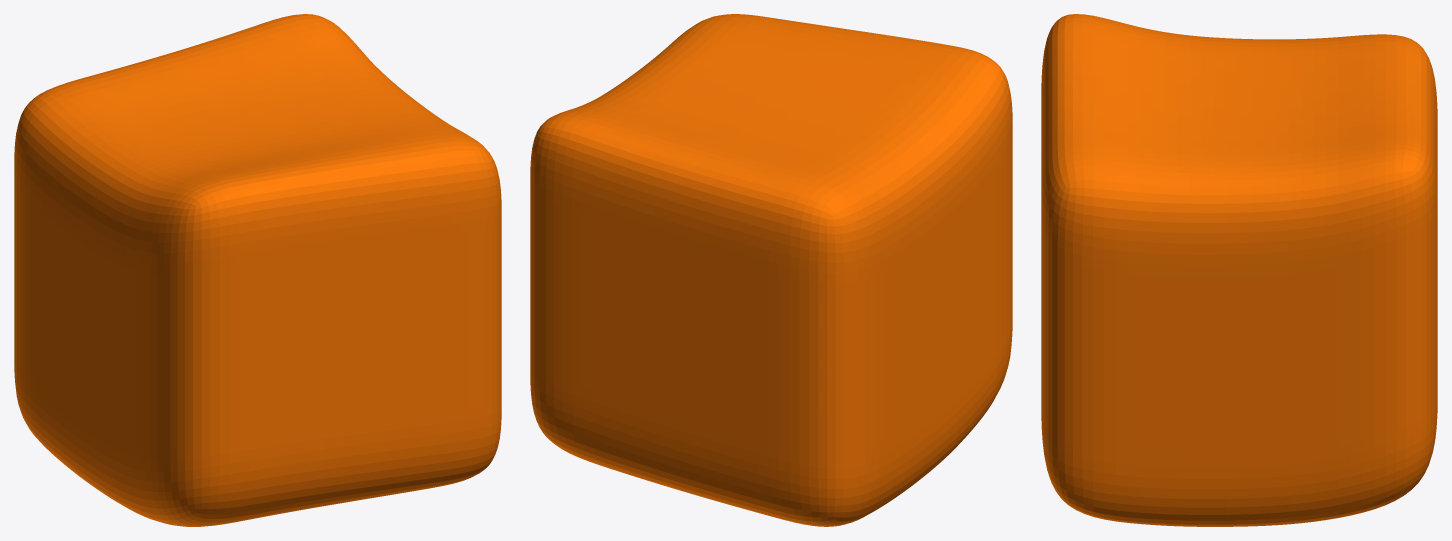
The picture shows the model from 3 angles, left to right: view 1: azimuth 30°, elevation 25°; view 2: azimuth 150°, elevation 25°; view 3: azimuth 270°, elevation 25°; orthographic projection. The views are drawn at different scales.
Parts seen in each view (by area): view 1: smooth_1_base.040; view 2: smooth_1_base.040; view 3: smooth_1_base.040.
Boxes of the visible parts, x1,y1,x2,y2 form: smooth_1_base.040: (14, 14, 501, 526); smooth_1_base.040: (530, 14, 1012, 526); smooth_1_base.040: (1041, 14, 1437, 526).
Bounding box in the file's own units: 60 × 64.06 × 60.
